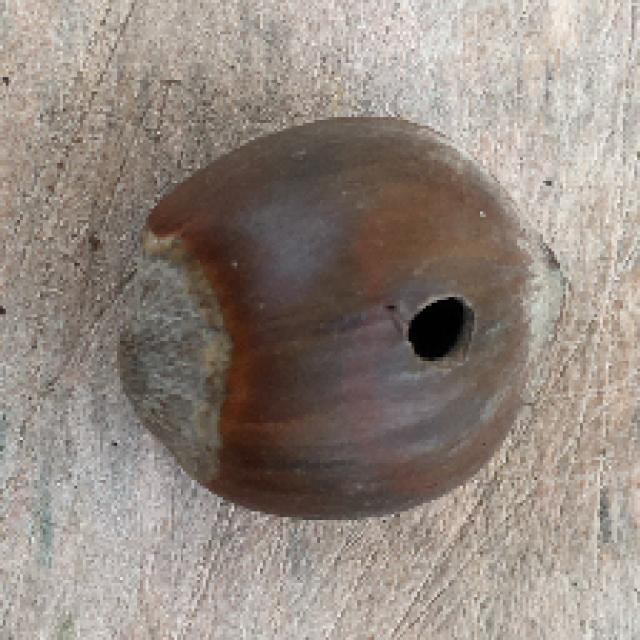damagedHazelnut: (103, 117, 567, 527)
